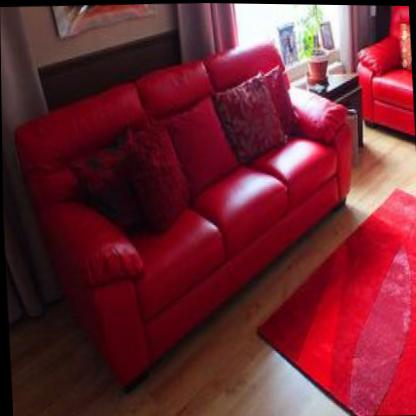Sofa: (14, 36, 367, 388)
